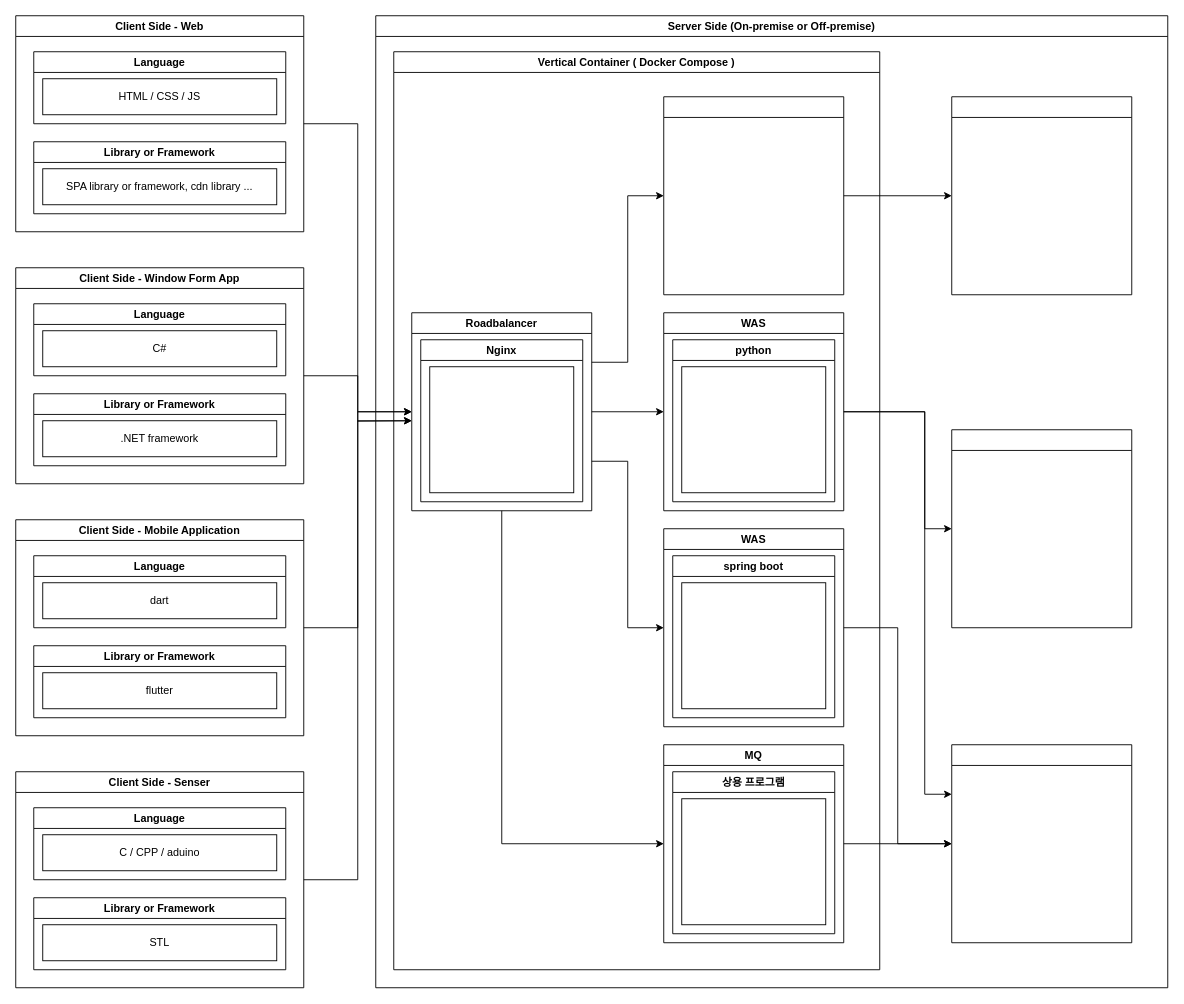
This 1184x1004 diagram has some shape labels left out. Here are the shapes that lost their labels. From the top down, the centre of each, then its label:
At (x=753, y=195): "frontend server".
At (x=1041, y=195): "valume - frontend".
At (x=1041, y=528): "valume - DS_data".
At (x=1041, y=843): "valume - senser_data".
